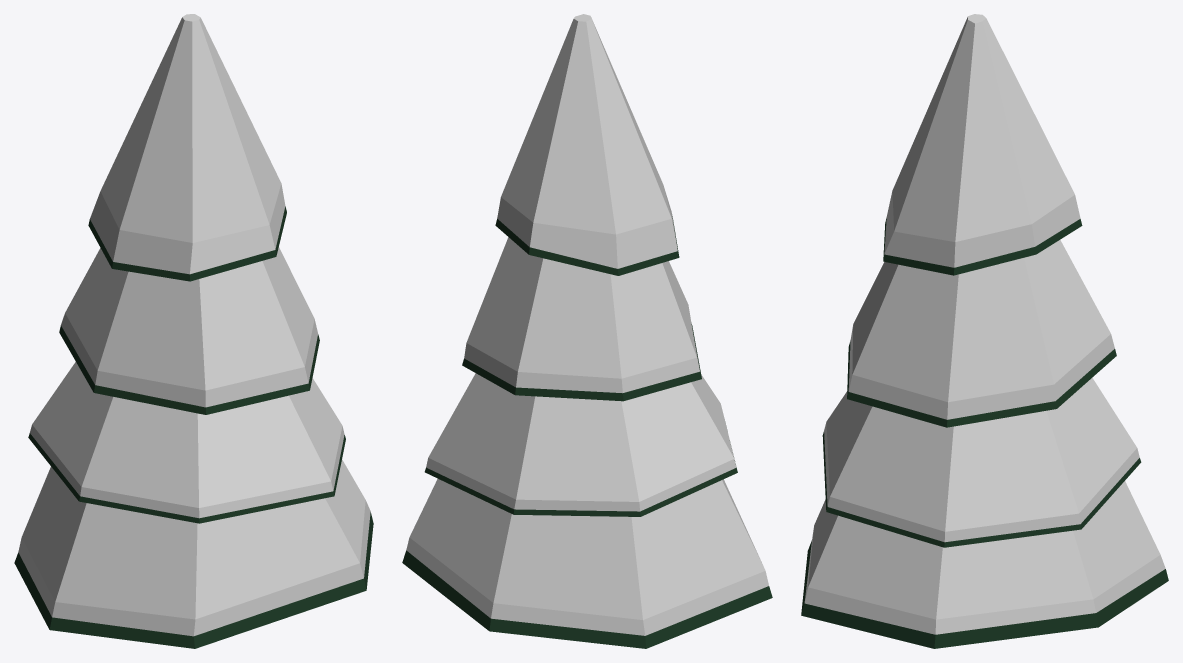
File: tree_snowed04.glb
The picture shows the model from 3 angles, left to right: view 1: azimuth 30°, elevation 25°; view 2: azimuth 150°, elevation 25°; view 3: azimuth 270°, elevation 25°; orthographic projection. The views are drawn at different scales.
Parts seen in each view (by area): view 1: Cylinder; view 2: Cylinder; view 3: Cylinder.
Boxes of the visible parts, x1,y1,x2,y2 form: Cylinder: [14, 14, 373, 648]; Cylinder: [402, 14, 772, 648]; Cylinder: [801, 14, 1168, 648].
Bounding box in the file's own units: 1.6 × 2.77 × 1.51.
